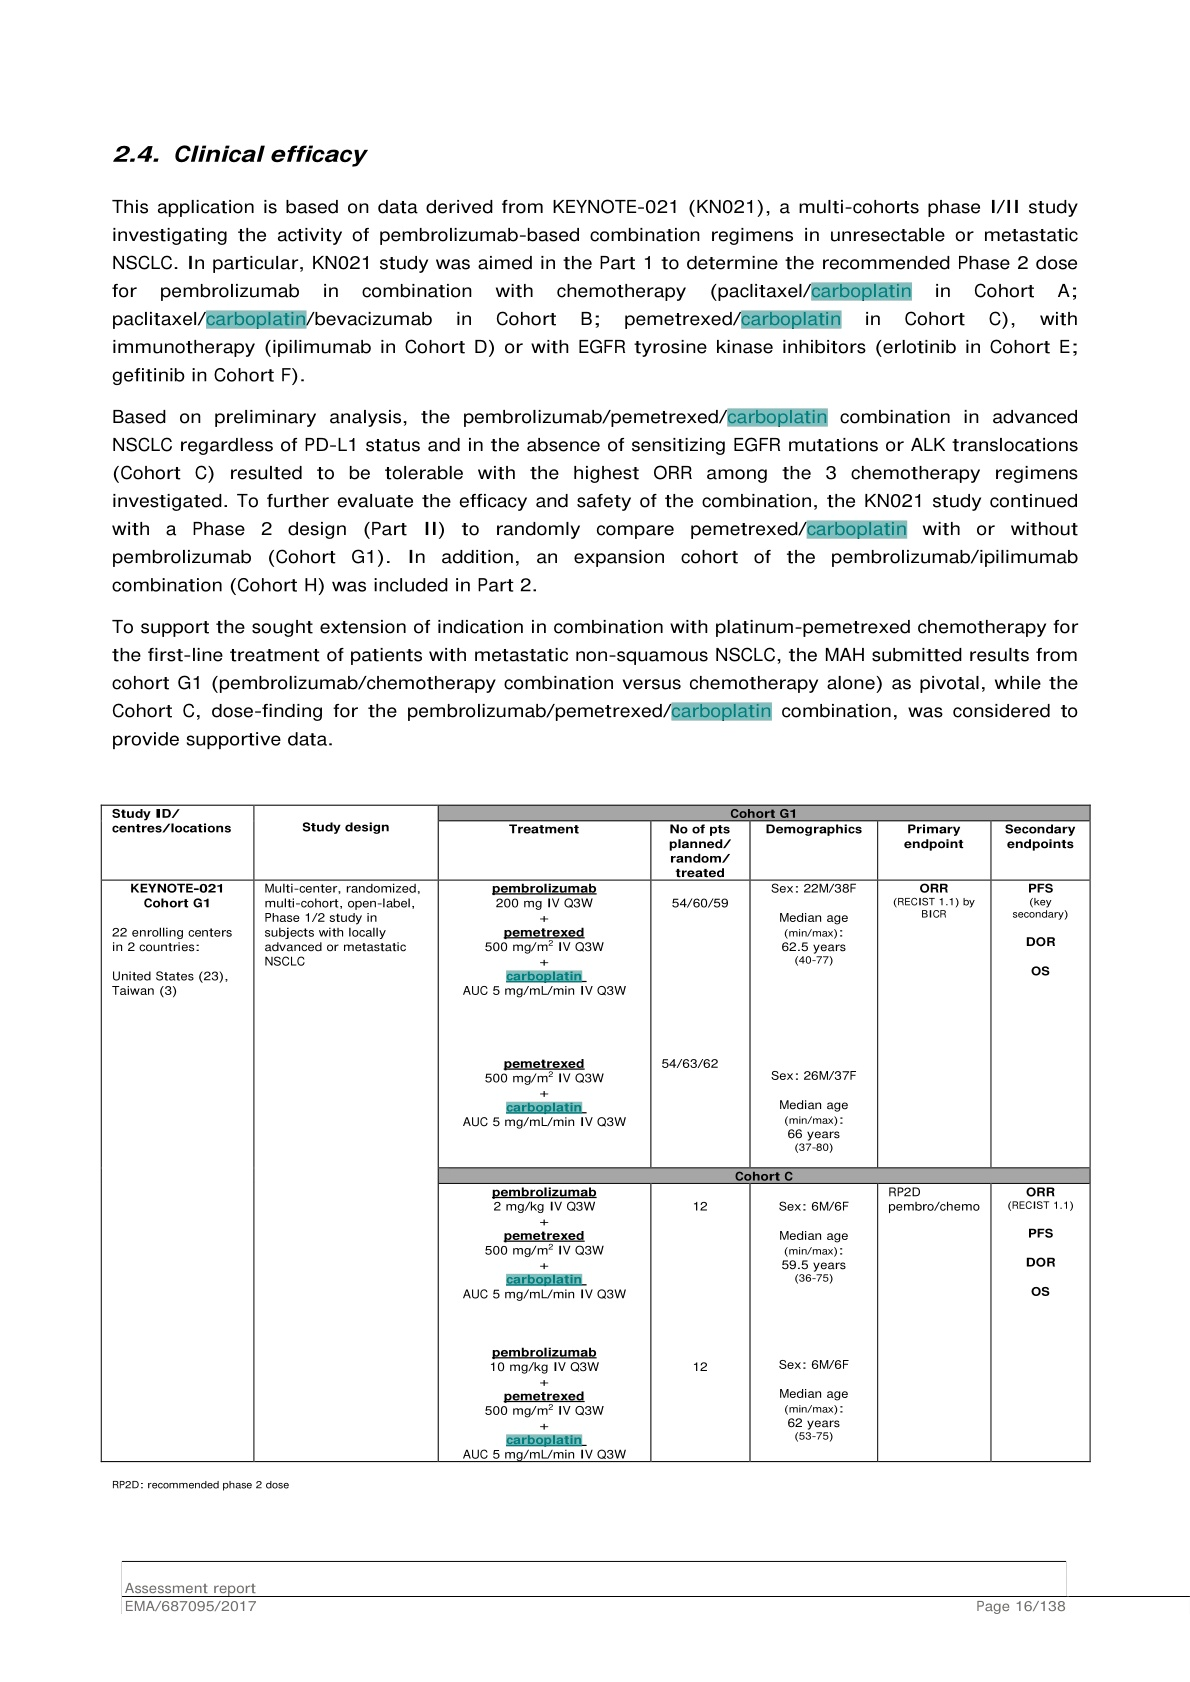merged_cells: (100, 804, 1092, 1463)
